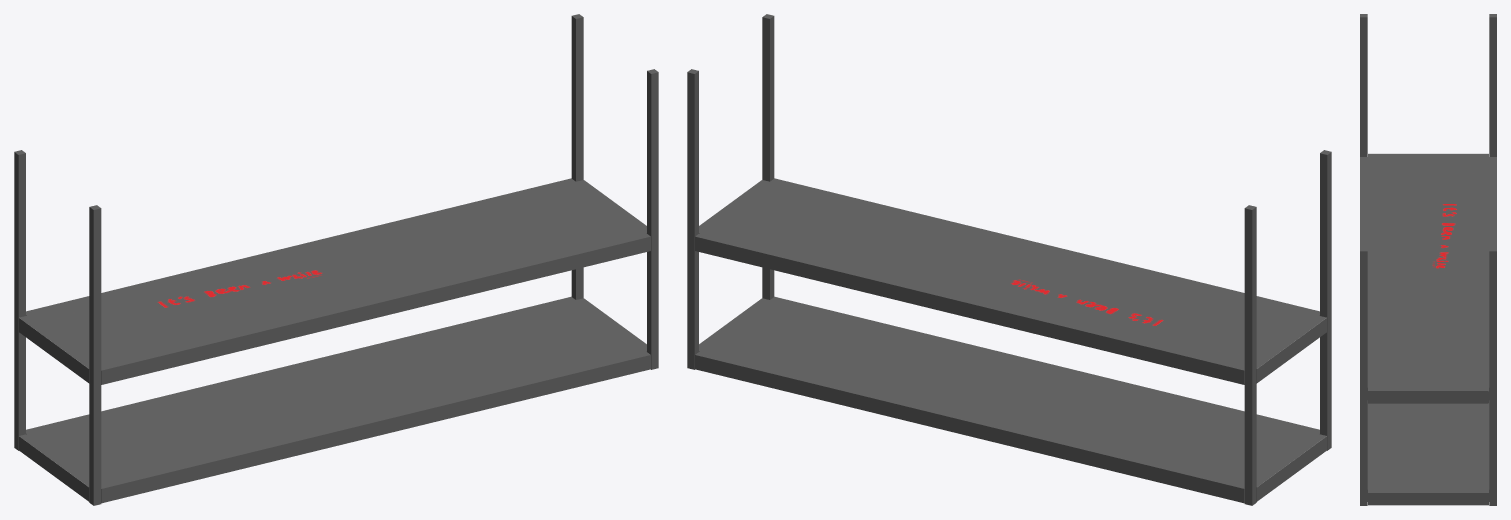
Rendered from MC_SpiceRack.fbx.
The picture shows the model from 3 angles, left to right: view 1: azimuth 30°, elevation 25°; view 2: azimuth 150°, elevation 25°; view 3: azimuth 270°, elevation 25°; orthographic projection. The views are drawn at different scales.
Visible parts, largest first — view 1: Cube.002; view 2: Cube.002; view 3: Cube.002.
Boxes of the visible parts, <box> form: Cube.002: <box>14,14,658,505</box>; Cube.002: <box>687,14,1331,505</box>; Cube.002: <box>1360,14,1496,505</box>.
Size of the model in its own units: 820 by 410 by 200.
Materials: 1 (1 with a texture image).
